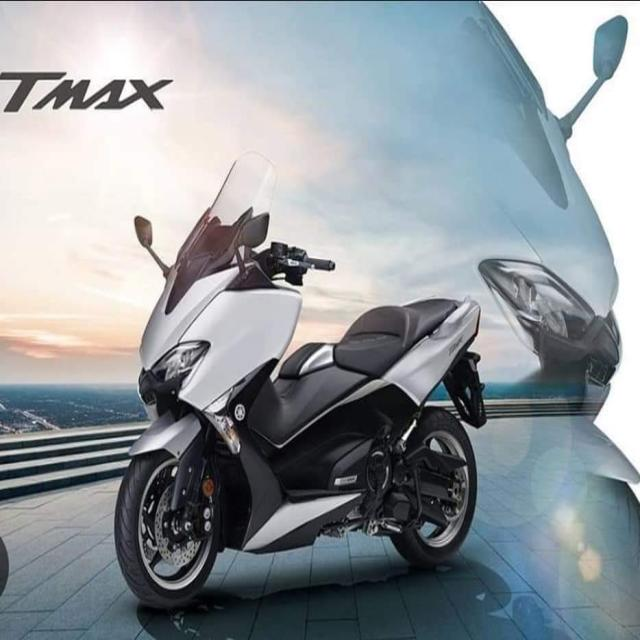Motorcycle: (115, 152, 487, 610)
